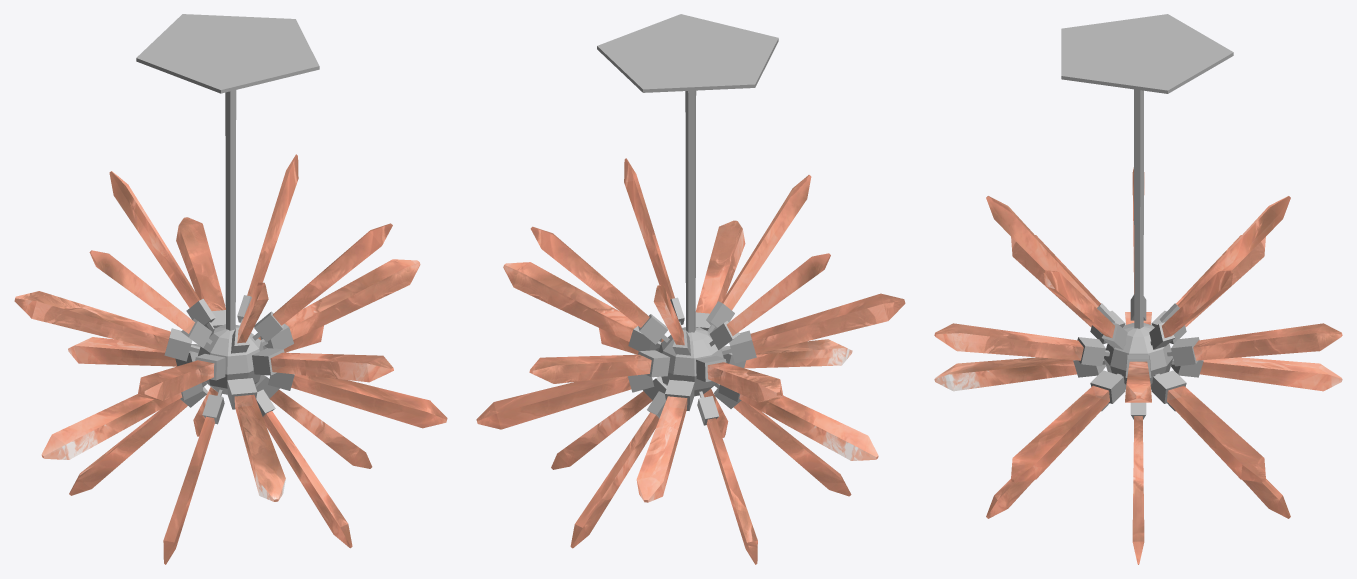
The model's file is salt-crystal-chandelier.glb.
3 views of the same model, side by side, from view 1: azimuth 30°, elevation 25°; view 2: azimuth 150°, elevation 25°; view 3: azimuth 270°, elevation 25° (orthographic).
Visible parts, largest first — view 1: Circle; view 2: Circle; view 3: Circle.
Boxes of the visible parts, x1,y1,x2,y2 form: Circle: (14, 14, 447, 564); Circle: (476, 14, 905, 564); Circle: (934, 14, 1342, 564).
Size of the model in its own units: 4.49 by 5.16 by 4.28.
2 materials, 1 textured.
